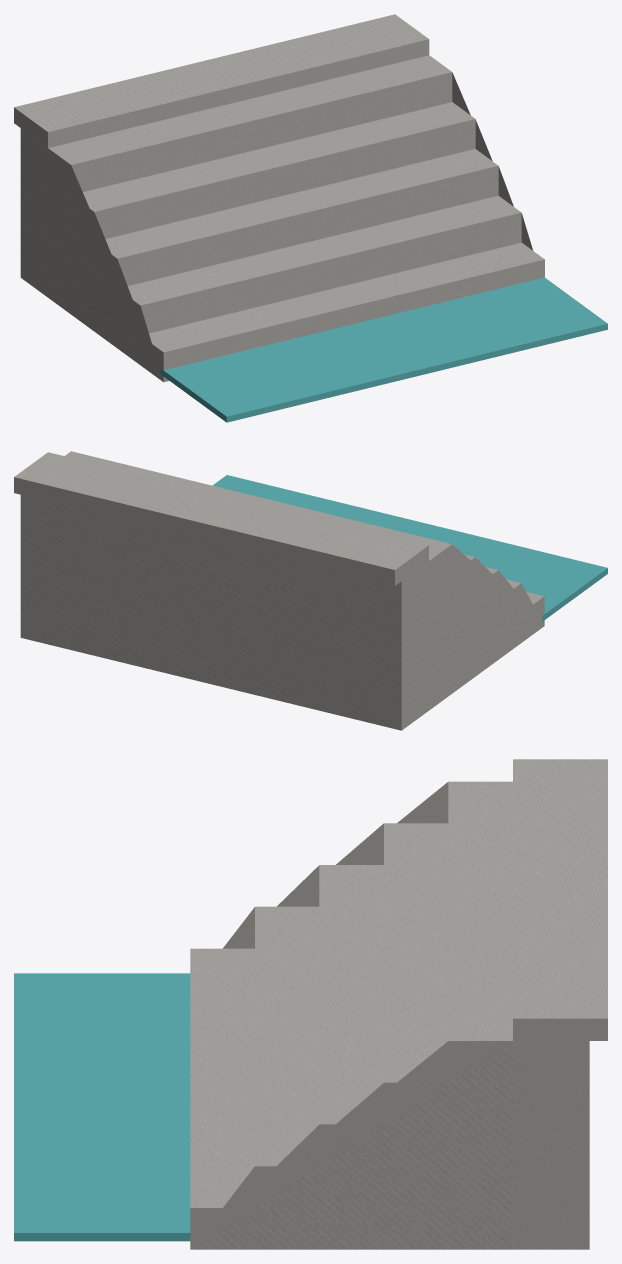
The model's file is indian-bazaar-street-and-temple-step-tank-edge-3943afa8__36542.glb.
The picture shows the model from 3 angles, top to bottom: view 1: azimuth 30°, elevation 25°; view 2: azimuth 150°, elevation 25°; view 3: azimuth 270°, elevation 25°; orthographic projection. The views are drawn at different scales.
Visible parts, largest first — view 1: step-tank-edge-stone, step-tank-edge-teal; view 2: step-tank-edge-stone, step-tank-edge-teal; view 3: step-tank-edge-stone, step-tank-edge-teal.
Part boxes in pixels (x1=…): step-tank-edge-stone: x1=14, y1=14, x2=544, y2=382; step-tank-edge-teal: x1=160, y1=277, x2=607, y2=422; step-tank-edge-stone: x1=14, y1=451, x2=544, y2=730; step-tank-edge-teal: x1=212, y1=475, x2=607, y2=621; step-tank-edge-stone: x1=190, y1=759, x2=607, y2=1249; step-tank-edge-teal: x1=14, y1=973, x2=190, y2=1241.
Bounding box in the file's own units: 4 × 1.66 × 3.87.
Materials: 2 (1 with a texture image).
